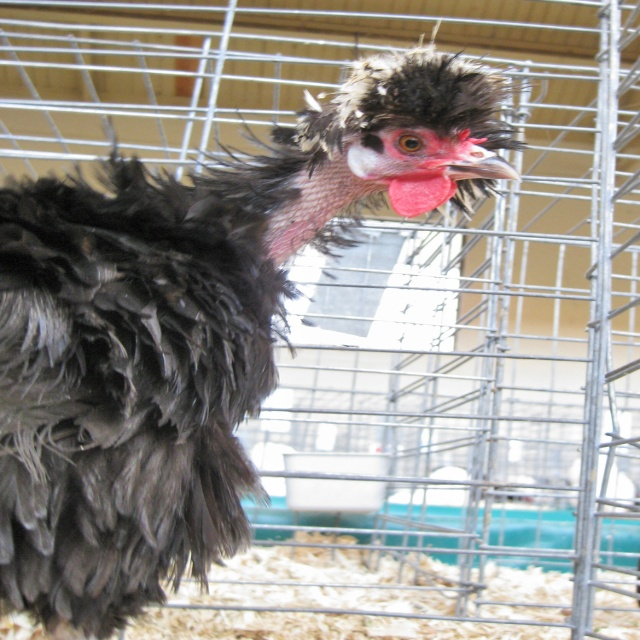Chicken: (0, 39, 535, 640)
